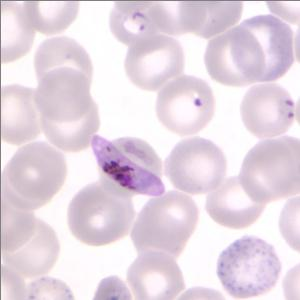Infected: (92, 132, 165, 197), (241, 83, 295, 136), (107, 0, 170, 44)
Uninfected: (154, 75, 215, 135), (124, 34, 186, 92), (206, 27, 266, 86), (67, 185, 125, 246), (241, 140, 294, 203), (11, 142, 68, 200), (3, 218, 60, 276), (168, 136, 227, 192), (34, 67, 94, 122), (206, 174, 267, 228), (41, 98, 101, 151), (125, 250, 184, 300), (144, 194, 198, 245), (34, 36, 92, 82), (0, 83, 42, 145), (0, 0, 36, 63), (22, 0, 78, 34)
